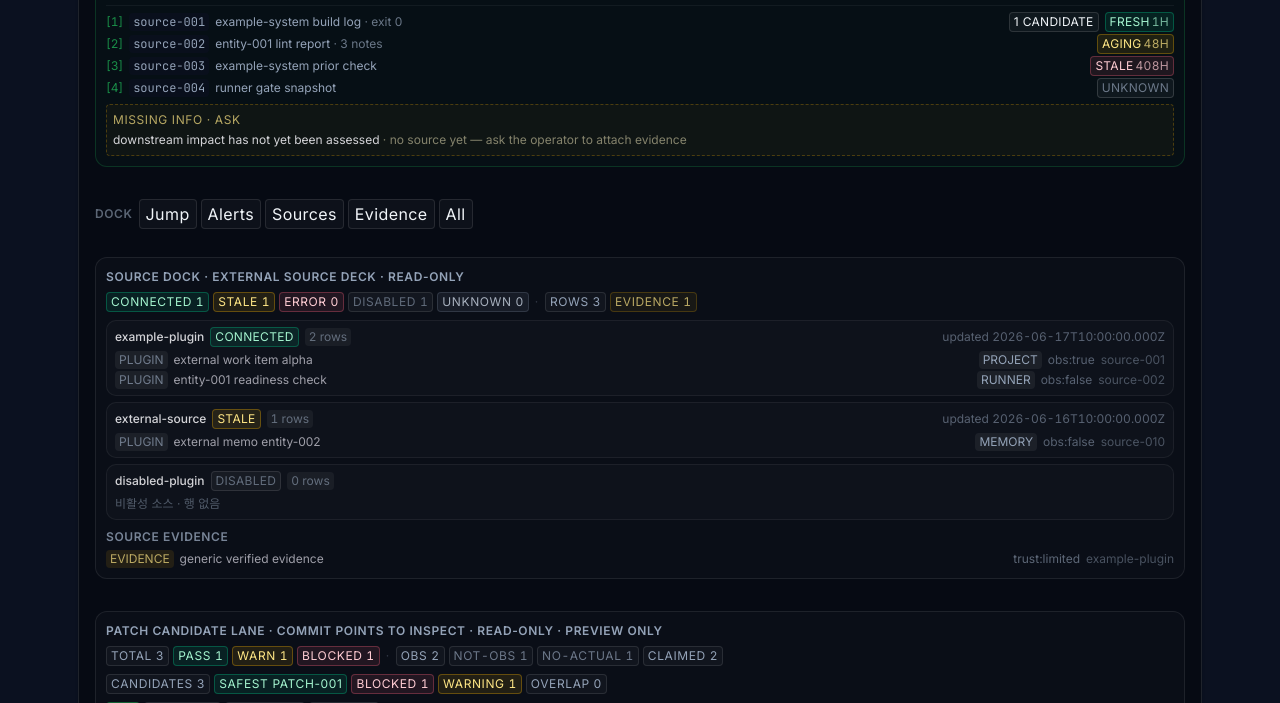
Test: Batch 15 LINE E — source detail drawer (zero-button, view-only) › clicking a source row opens the drawer with read-only typed fields
(page scrolled)
Step 1. Click the button with test id "plugin-row-example-plugin-0" → (141, 360), box [115,351,1165,369]
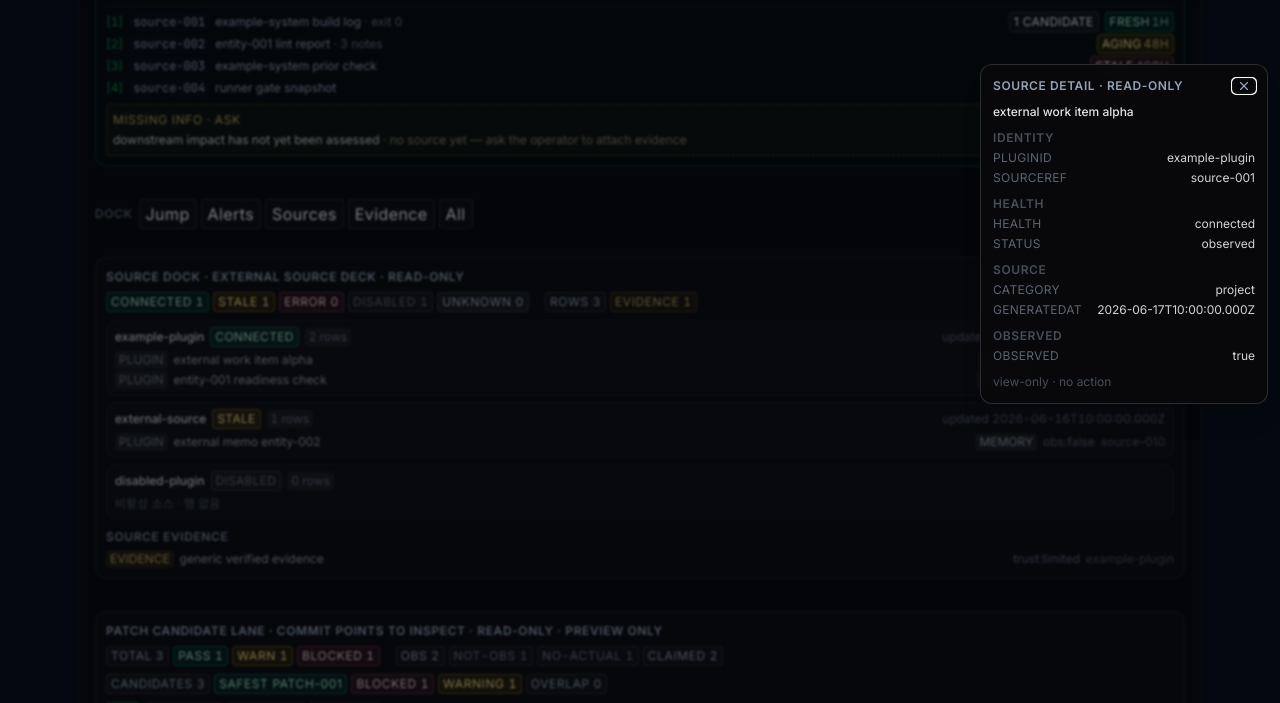
Now the element with test id "source-detail-field-pluginId" shows "example-plugin", box [1167,150,1255,165]
Now the element with test id "source-detail-field-sourceRef" shows "source-001", box [1191,170,1255,185]
Now the element with test id "source-detail-field-category" shows "project", box [1216,282,1255,297]
